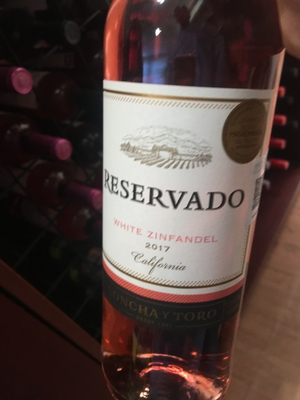reservado white zinfandel: (81, 3, 278, 363)
